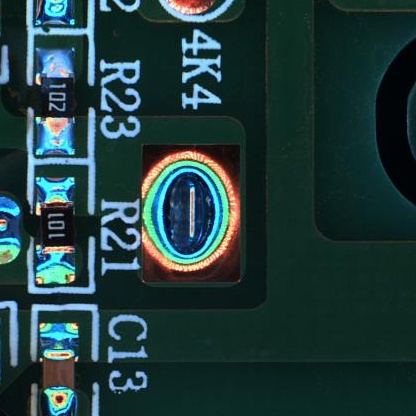spot: (141, 150, 241, 273)
